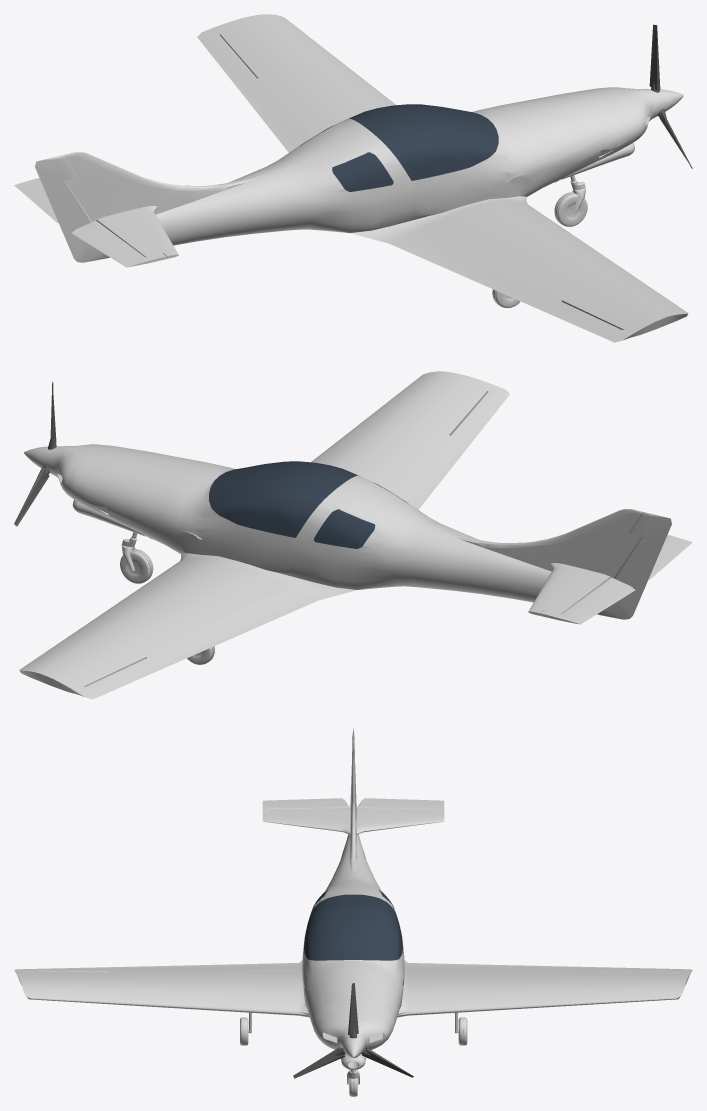
File: lanc.glb
3 views of the same model, one above another, from view 1: azimuth 30°, elevation 25°; view 2: azimuth 150°, elevation 25°; view 3: azimuth 270°, elevation 25° (orthographic). The views are drawn at different scales.
Parts seen in each view (by area): view 1: body, glass, spin; view 2: body, glass, spin; view 3: body, glass, spin.
Boxes of the visible parts, x1=… form: body: x1=14, y1=14, x2=688, y2=342; glass: x1=300, y1=104, x2=498, y2=191; spin: x1=649, y1=24, x2=692, y2=168; body: x1=19, y1=371, x2=692, y2=699; glass: x1=209, y1=461, x2=406, y2=548; spin: x1=14, y1=381, x2=56, y2=526; body: x1=14, y1=728, x2=692, y2=1096; glass: x1=304, y1=890, x2=402, y2=960; spin: x1=293, y1=983, x2=413, y2=1078.
Bounding box in the file's own units: 1.96 × 0.5609 × 2.2.
